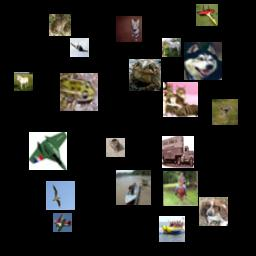airplane: (29, 132, 67, 170), (196, 4, 218, 26), (53, 213, 72, 232), (70, 38, 89, 57)
bird: (46, 181, 75, 210)
cat: (163, 82, 198, 117), (116, 16, 142, 42), (106, 138, 125, 157)
deer: (212, 99, 238, 125)
dog: (184, 42, 222, 80), (199, 197, 228, 226)
frog: (60, 73, 98, 111), (129, 59, 161, 91), (49, 14, 71, 36)
ship: (116, 170, 151, 205), (159, 216, 185, 242)
truck: (162, 136, 194, 168)
